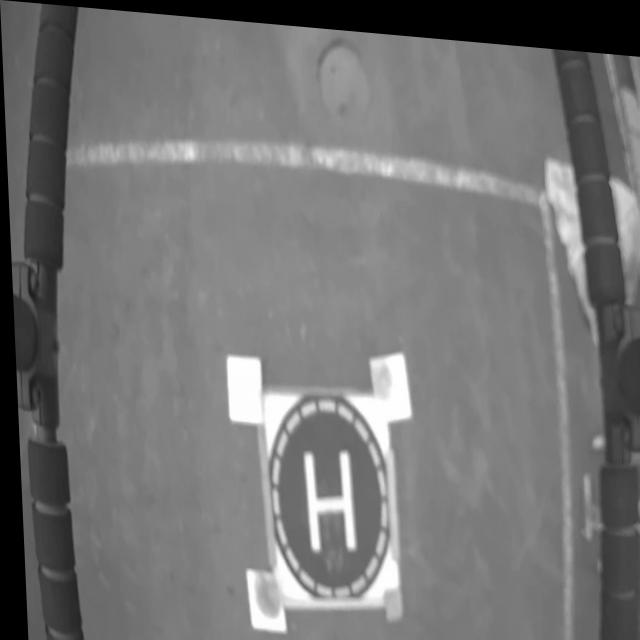Helipad: (299, 443, 353, 548)
